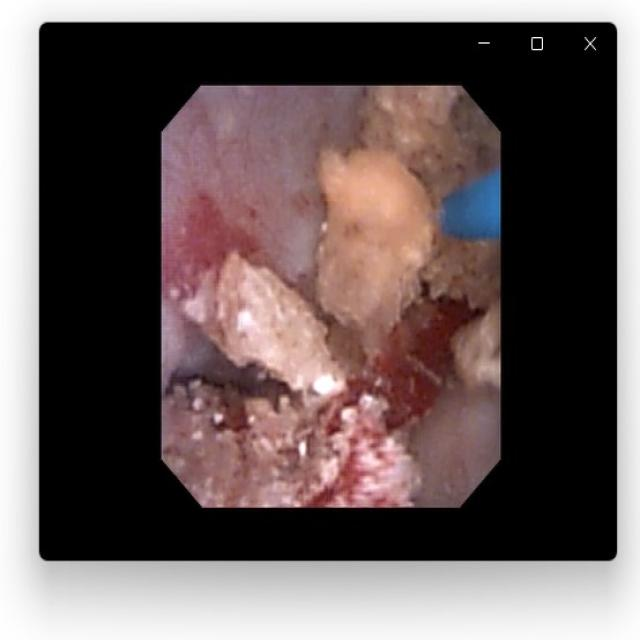fiber: (441, 172, 497, 234)
stone: (170, 90, 495, 504)
